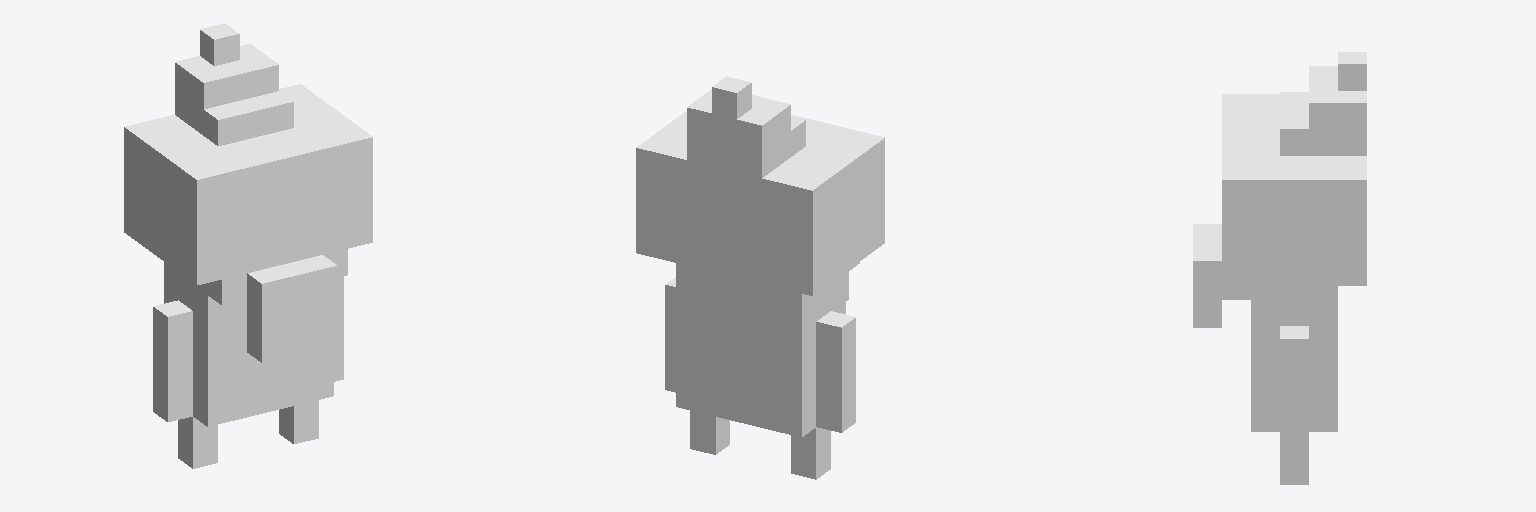
Rendered from statist2.obj.
3 renders of one model, left to right at view 1: azimuth 30°, elevation 25°; view 2: azimuth 150°, elevation 25°; view 3: azimuth 270°, elevation 25°, orthographic.
Bounding box in the file's own units: 7 × 15 × 6.